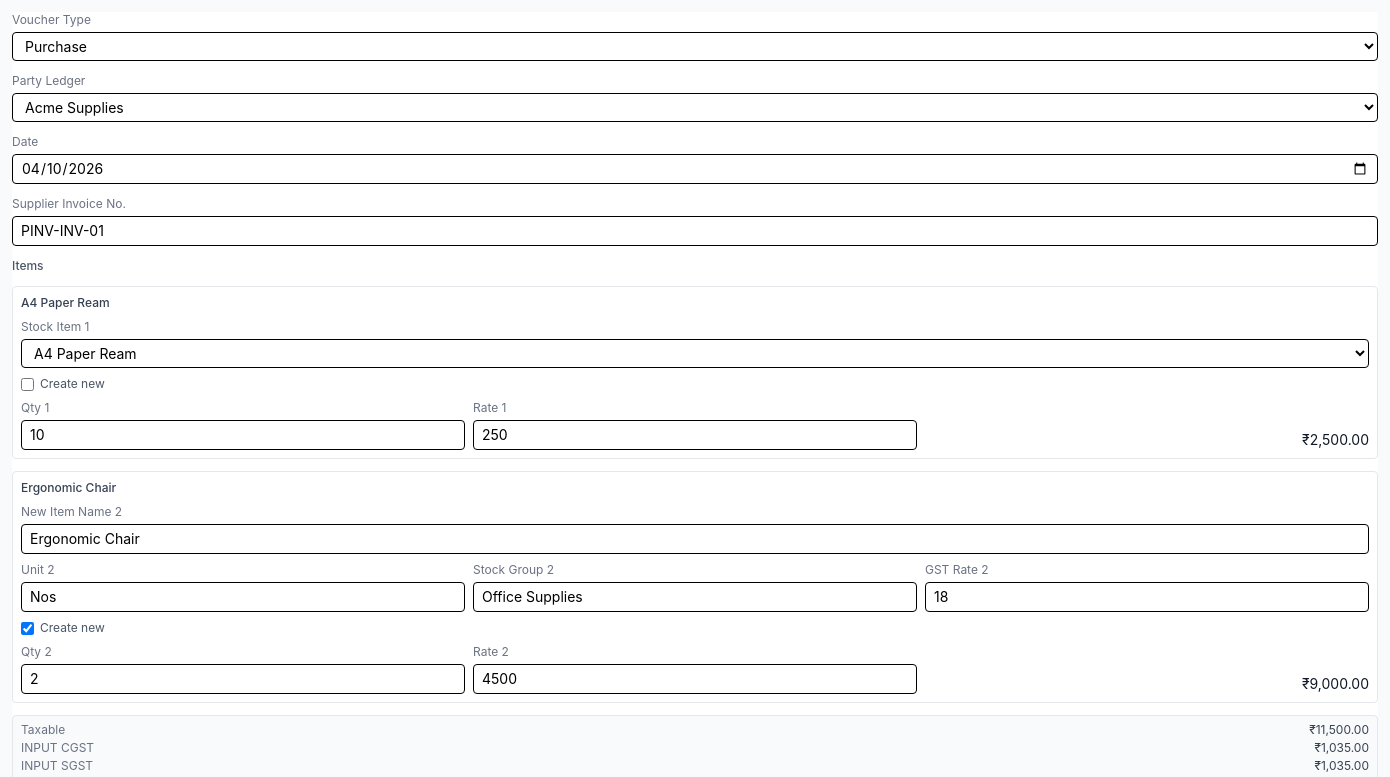
Test: VoucherEditForm — inventory line items › toggling 'Create new' reveals stock_name/unit/group/gst fields
The image size is (1390, 777).
Expected: the field labelled "New Item Name 1" is not shown
Click the checkbox named "Create new 1": click(28, 384) [21, 378, 34, 390]
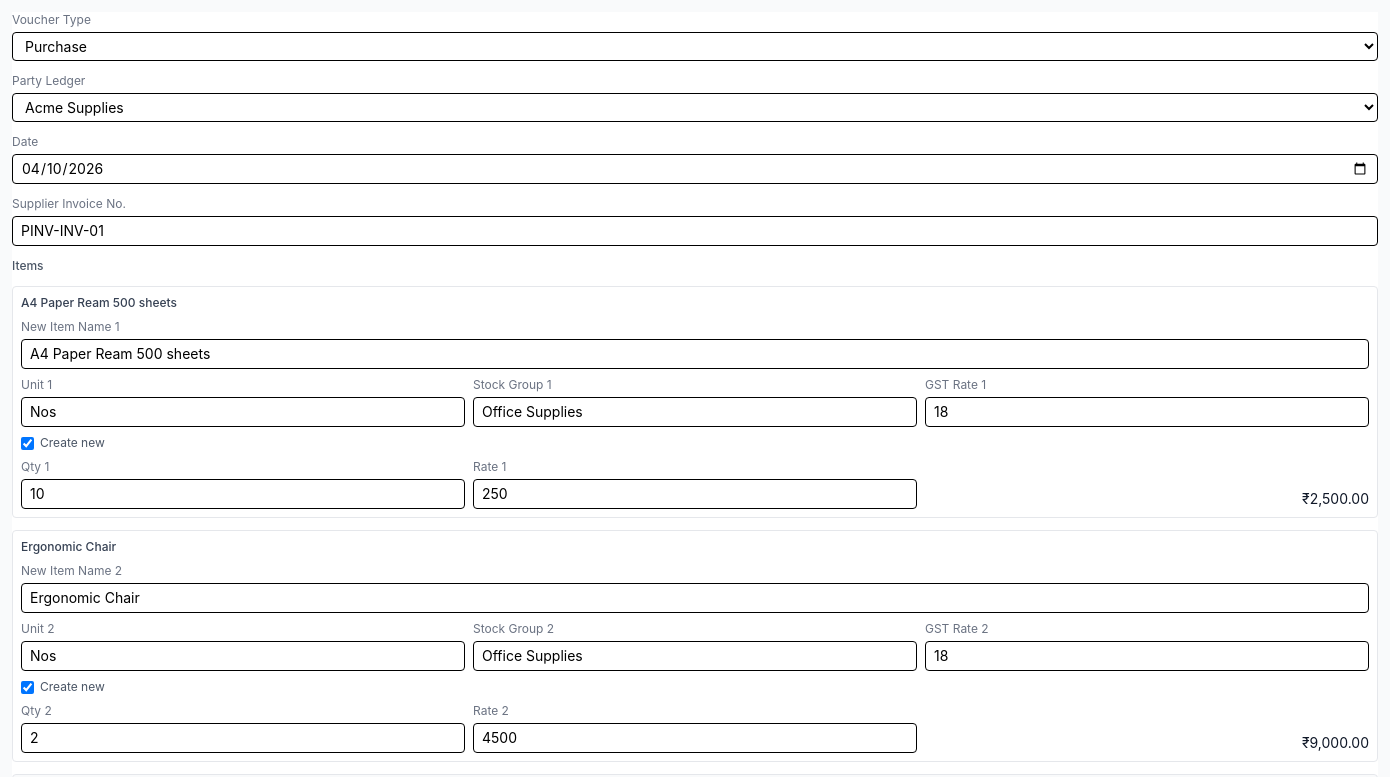
Result: the field labelled "New Item Name 1" is shown at [21, 339, 1369, 369]
Result: the field labelled "Unit 1" is shown at [21, 397, 465, 427]
Result: the field labelled "Stock Group 1" is shown at [473, 397, 917, 427]
